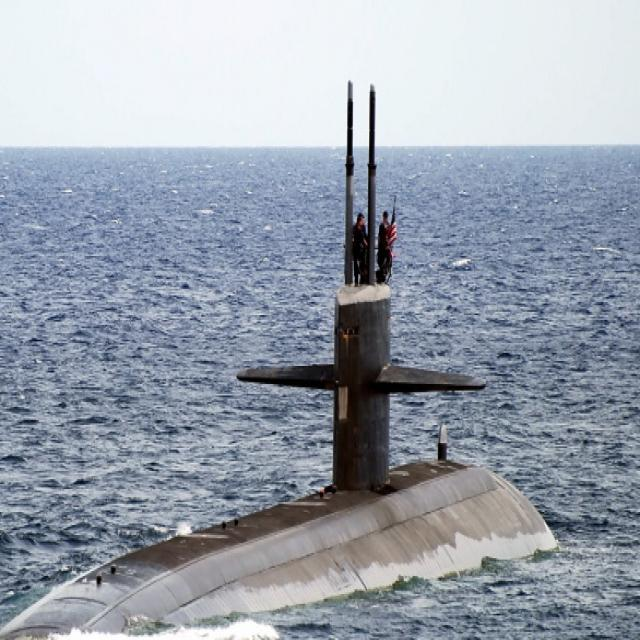submarine: (1, 78, 544, 640)
